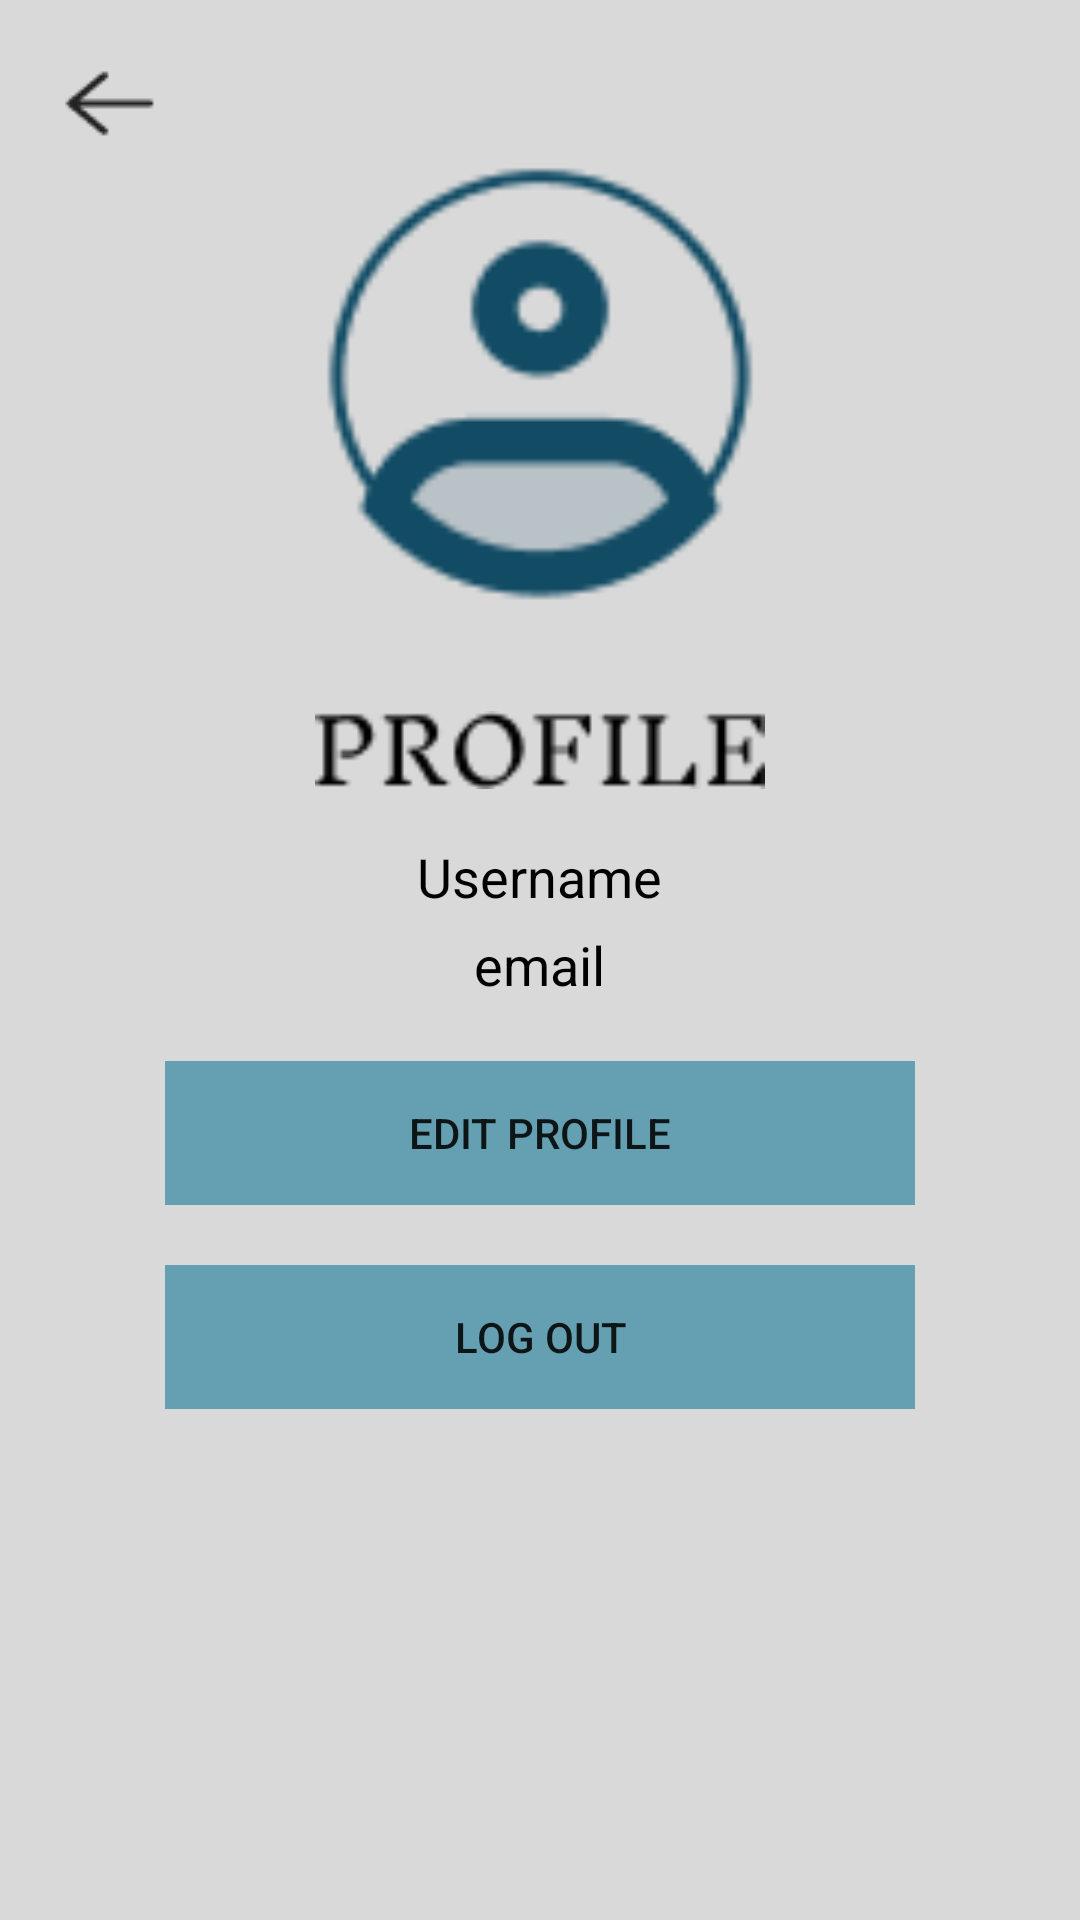

Icons on this 1080w x 1920h Android screen, each with its box as (x1=x1, y1=y1, x2=x2, y2=y2):
back: (x1=65, y1=71, x2=154, y2=136)
